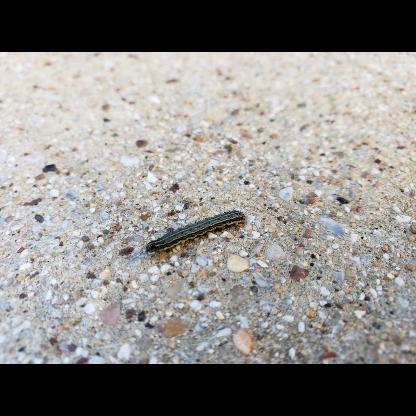Fall Armyworm Larvae: (144, 206, 250, 256)
